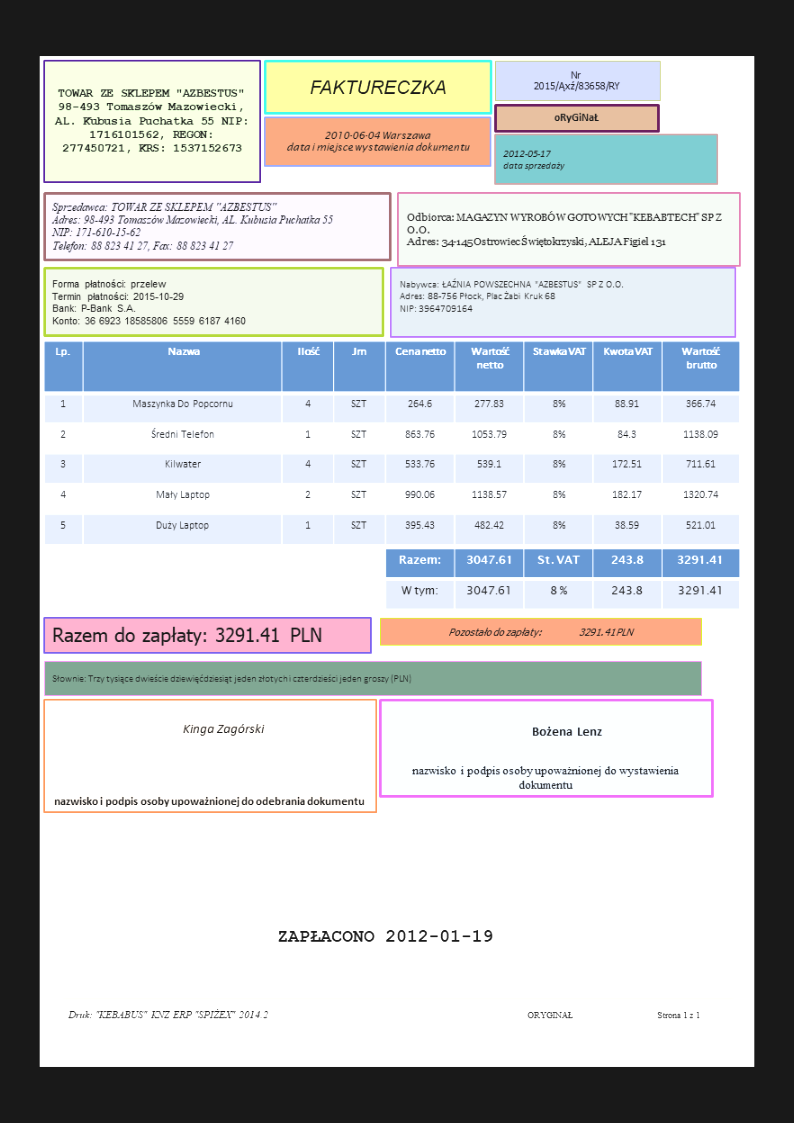Table: (43, 340, 741, 545), (384, 547, 740, 610)
TextBox: (51, 198, 334, 251), (52, 87, 248, 153), (404, 210, 723, 250), (51, 278, 248, 327), (396, 277, 626, 315), (411, 764, 680, 791), (51, 623, 323, 645), (51, 792, 364, 809), (51, 672, 413, 686), (284, 129, 473, 153), (276, 926, 494, 944), (66, 1007, 271, 1022), (446, 624, 636, 640), (308, 76, 448, 97), (526, 1008, 701, 1022), (532, 68, 622, 92), (180, 719, 266, 737), (501, 147, 565, 171), (530, 724, 605, 739), (553, 110, 600, 124)
